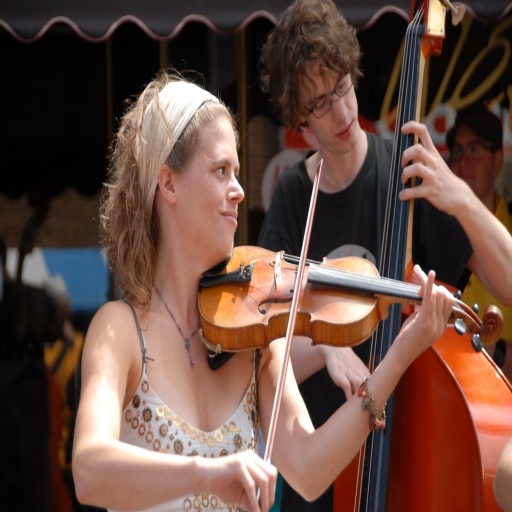hand: (400, 127, 493, 233), (395, 263, 456, 360), (208, 446, 279, 510), (325, 345, 373, 401)
